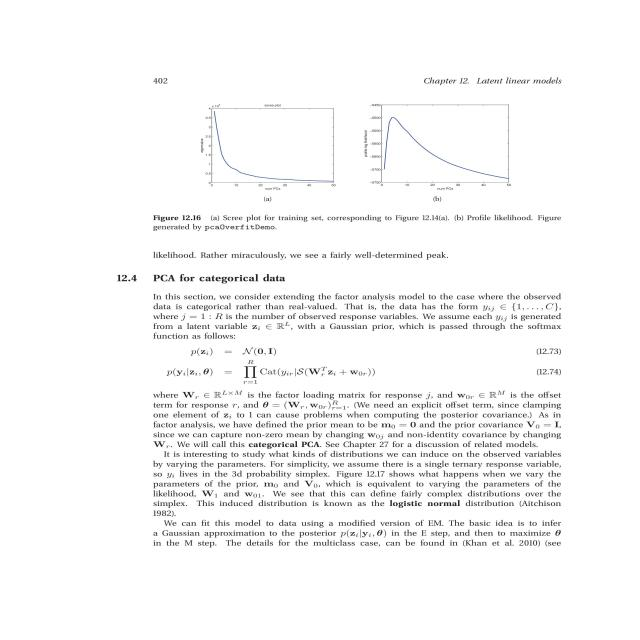diagram: (105, 97, 586, 244)
